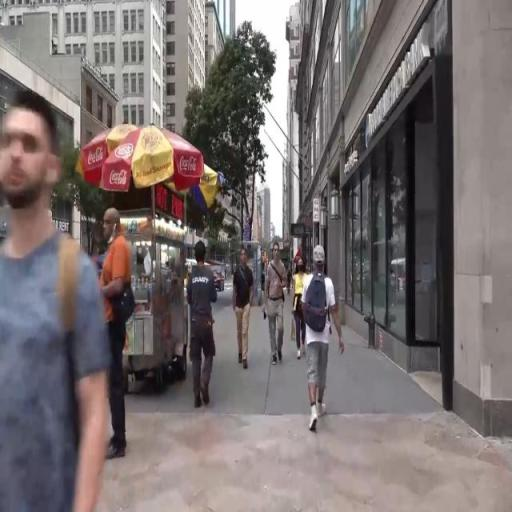person: (1, 80, 108, 512), (97, 203, 155, 469), (306, 243, 337, 453), (186, 236, 220, 419), (232, 242, 256, 380), (264, 238, 288, 371), (296, 252, 308, 357)
